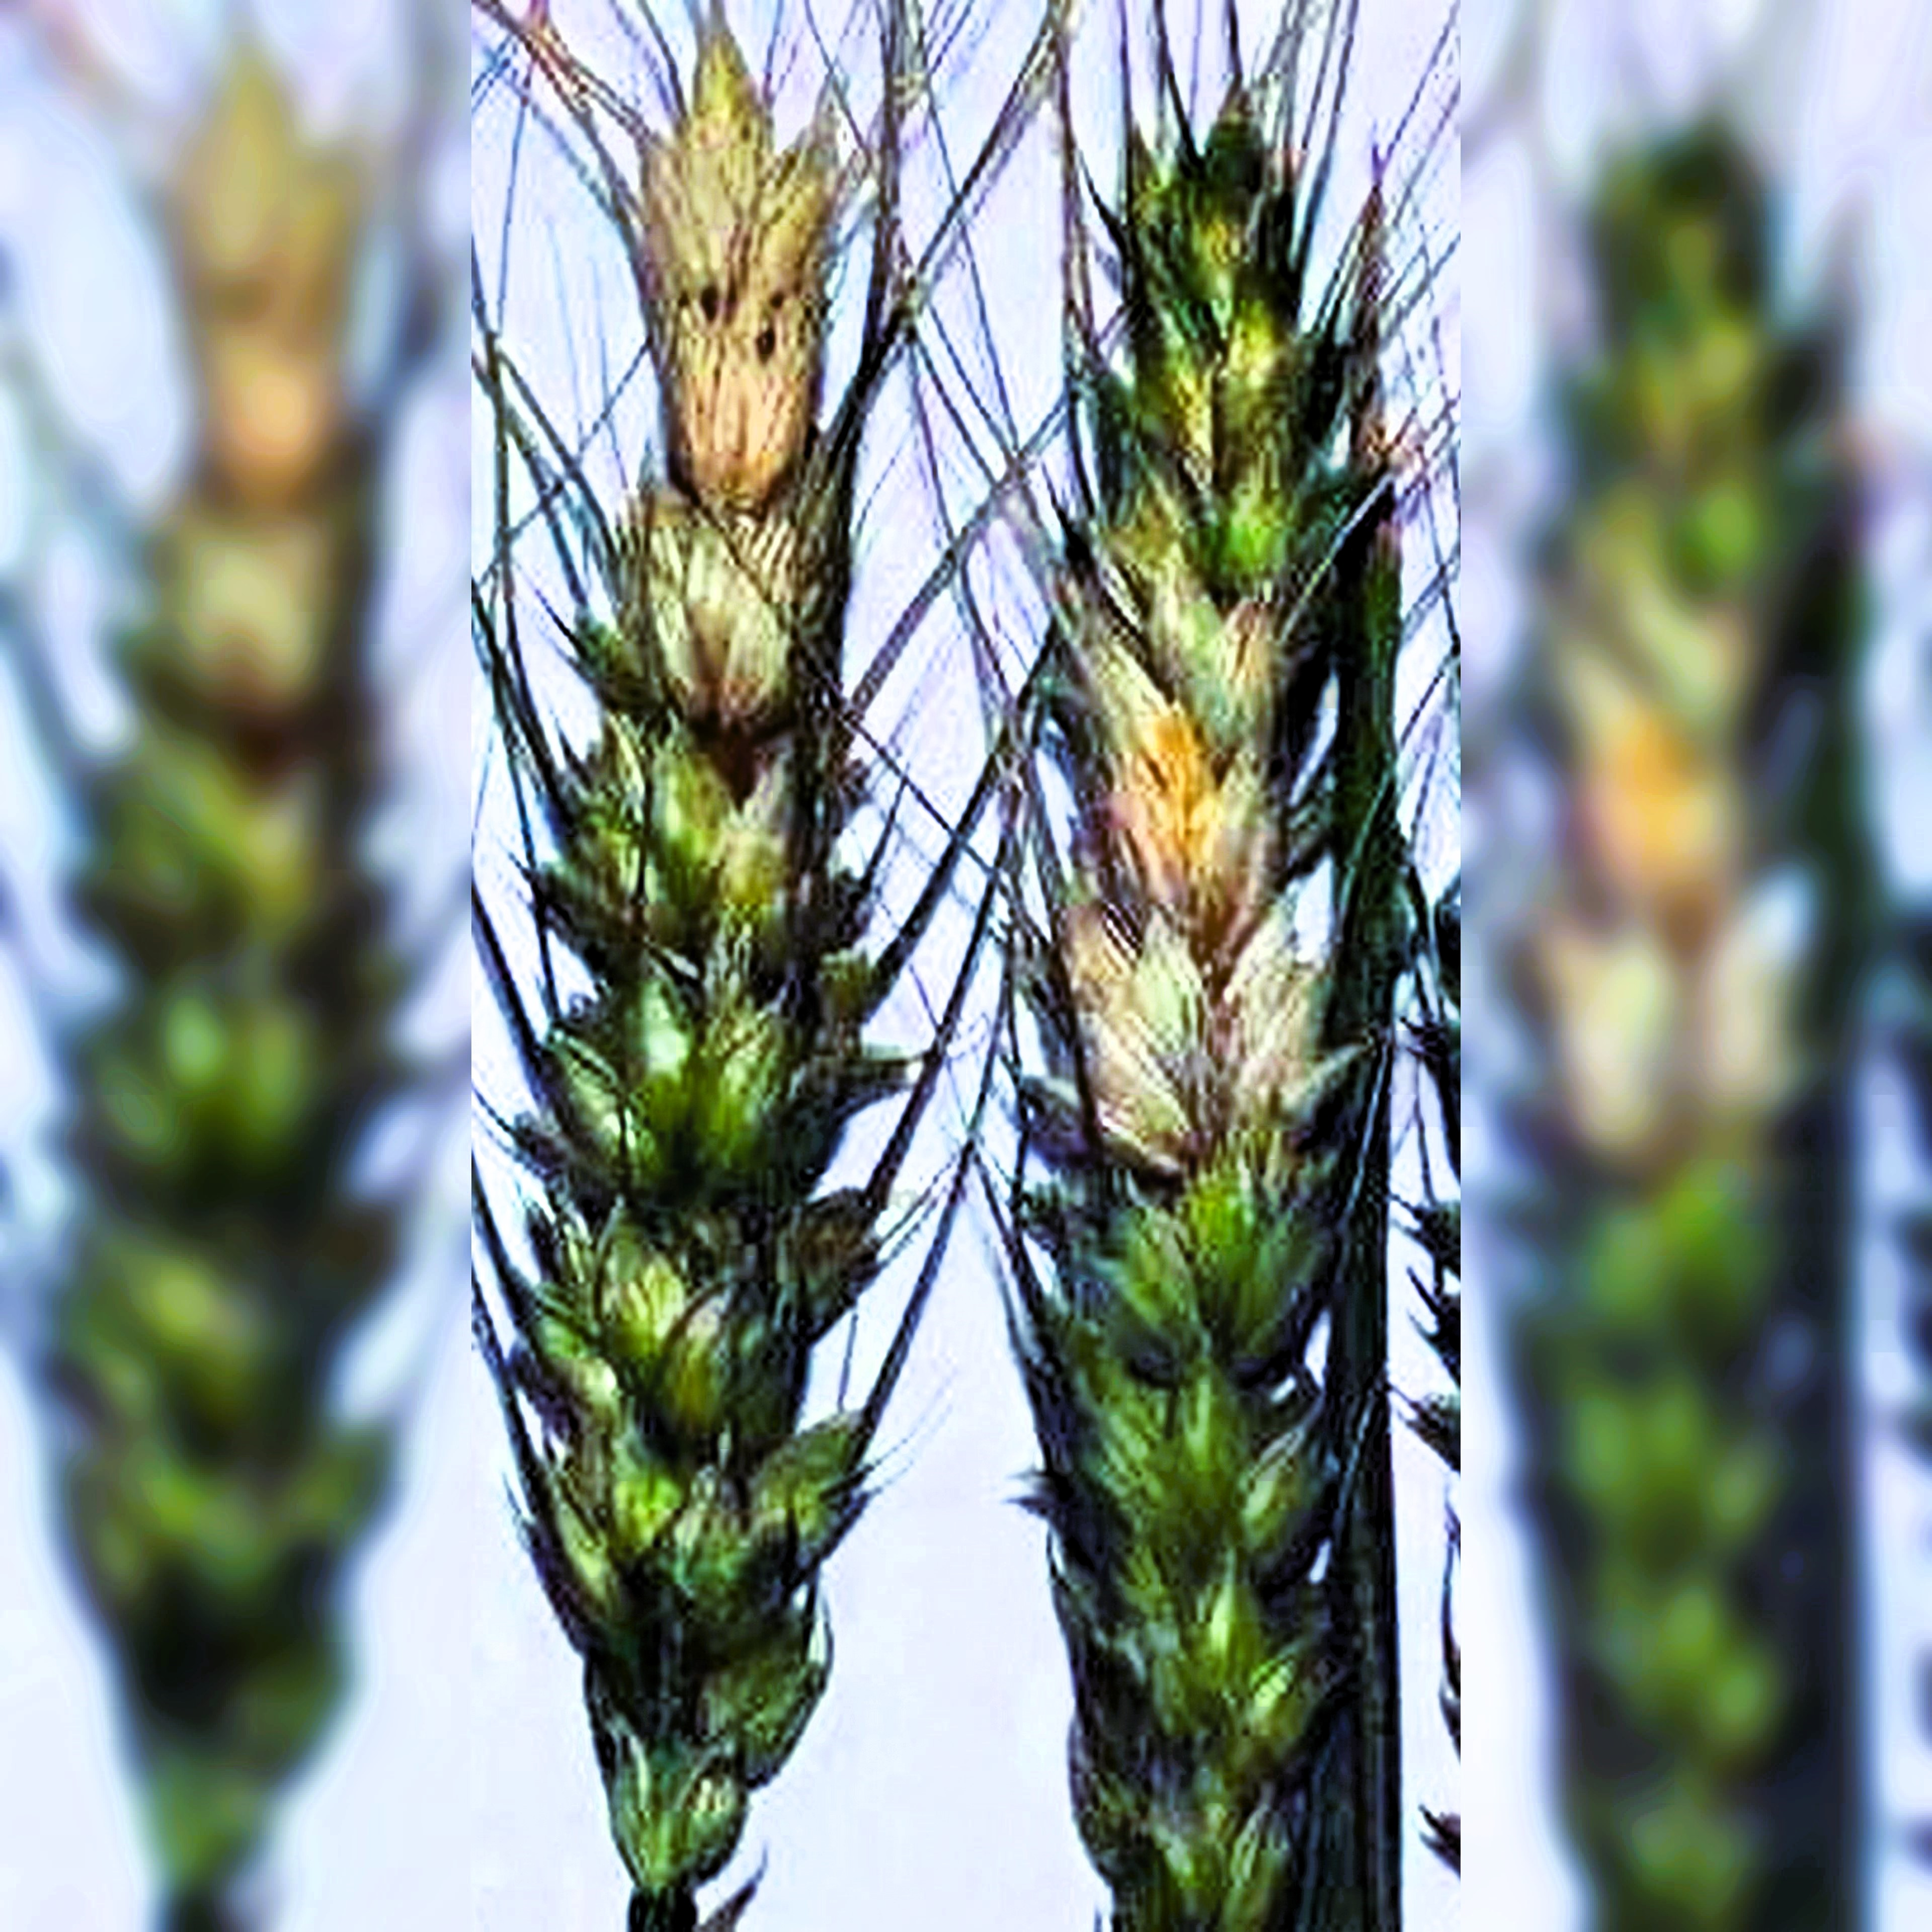Wheat scab: (982, 177, 1458, 1918)
